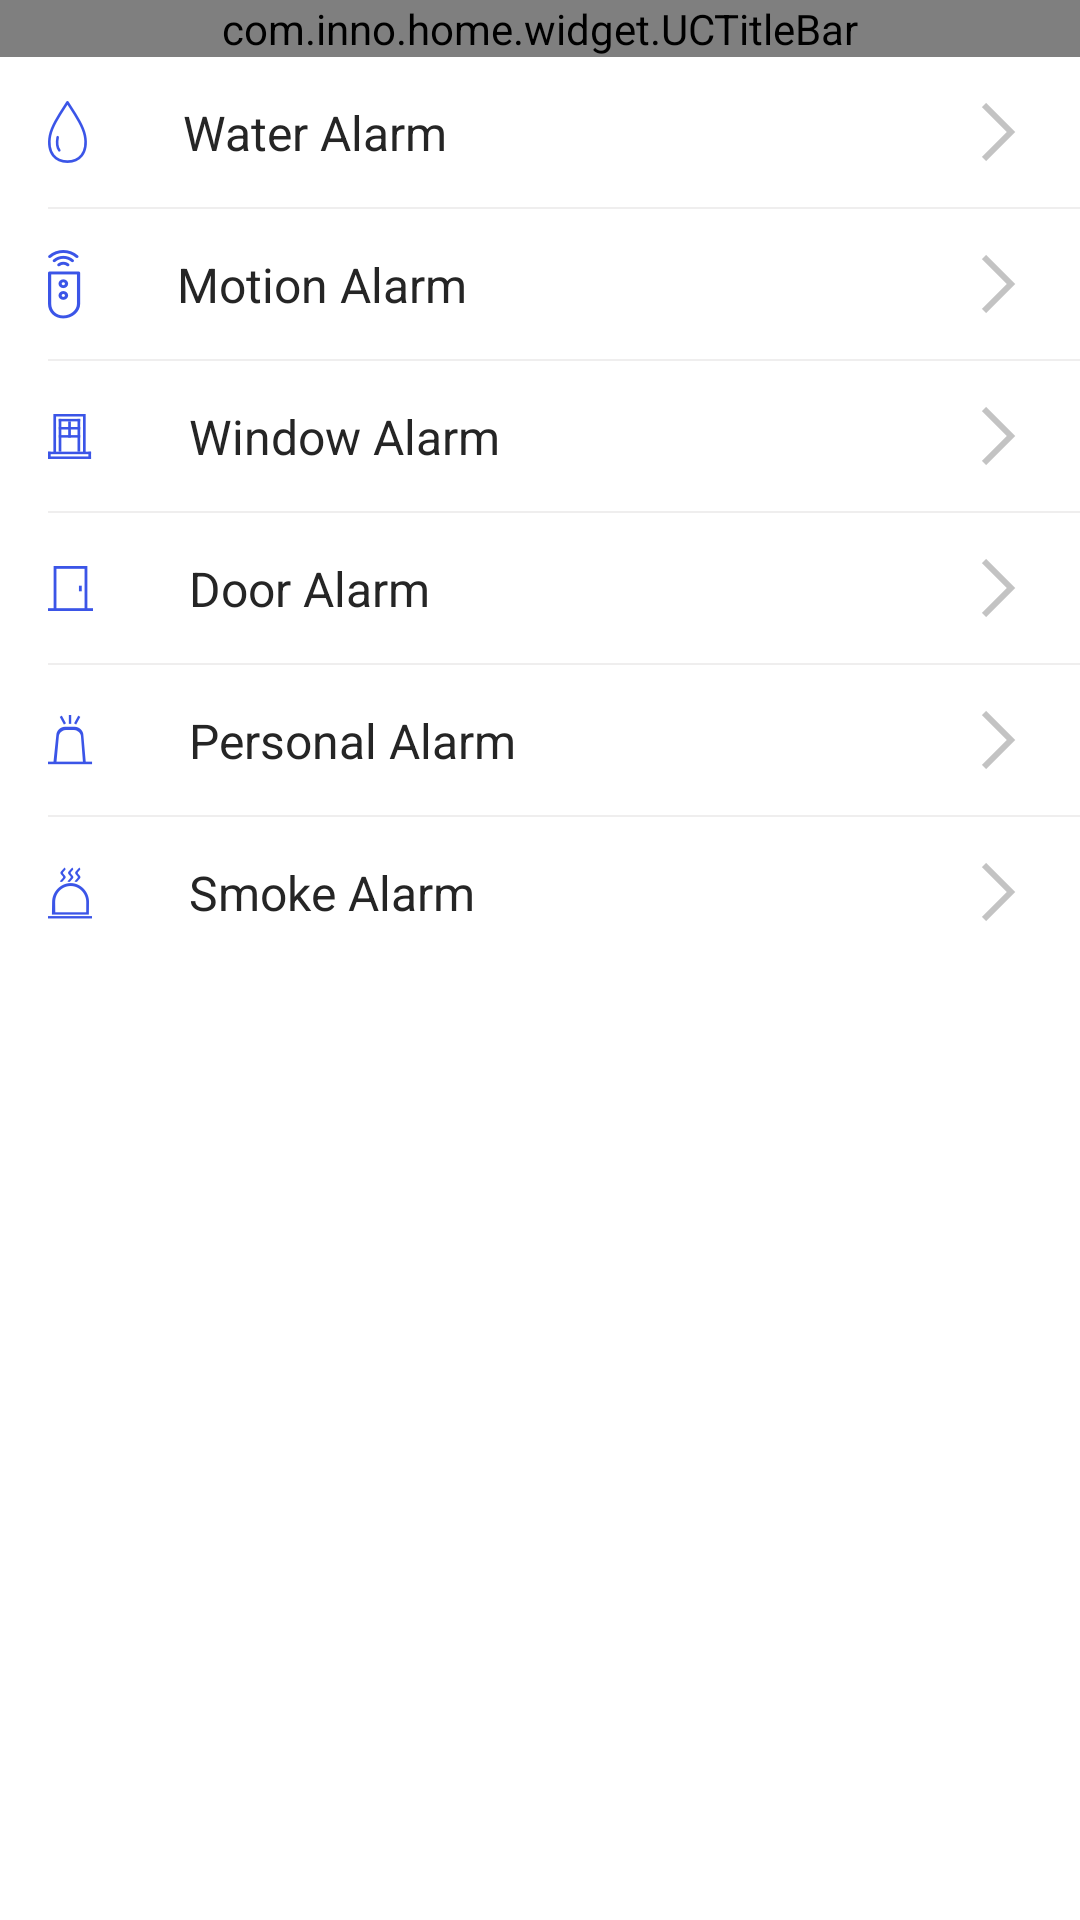

Locate icon controls on the screen. Image size 1080px x 1920px, boxes as (left=x1, top=y1, right=x2, bottom=y2).
product door: (left=48, top=566, right=93, bottom=611)
product motion: (left=48, top=250, right=81, bottom=319)
product smoke: (left=48, top=867, right=92, bottom=919)
product water: (left=48, top=101, right=87, bottom=163)
product window: (left=48, top=414, right=91, bottom=459)
